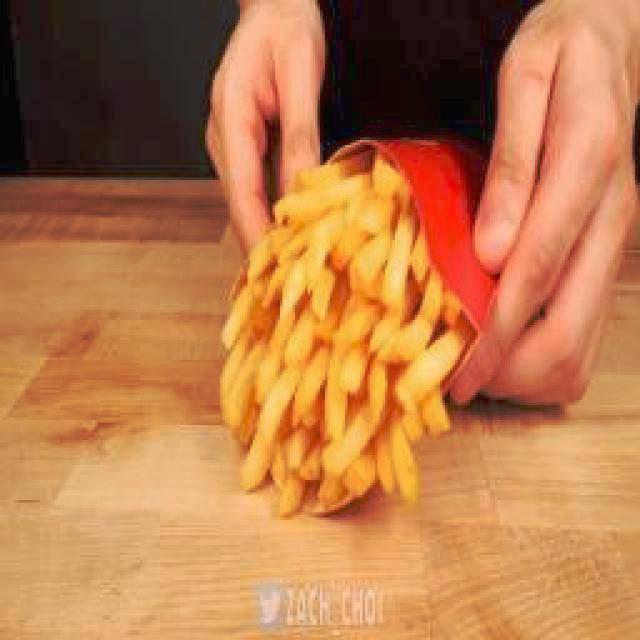french fries: (221, 151, 466, 515)
